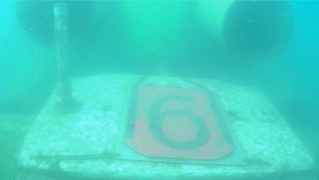console: (17, 73, 319, 180)
pipe: (191, 1, 293, 65), (14, 1, 111, 50), (112, 1, 189, 60)
